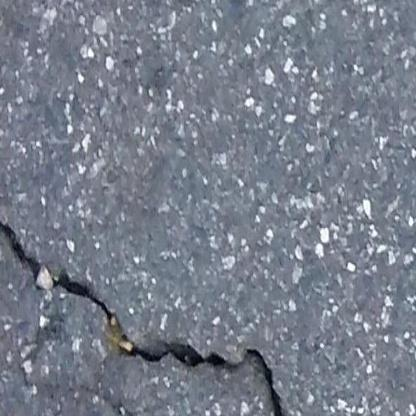Cracks: (0, 182, 307, 416)
